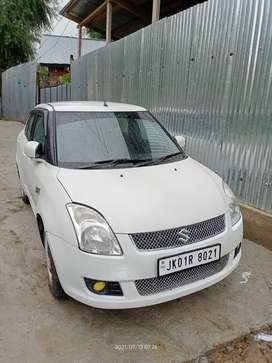JK01R8021: (158, 245, 220, 275)
